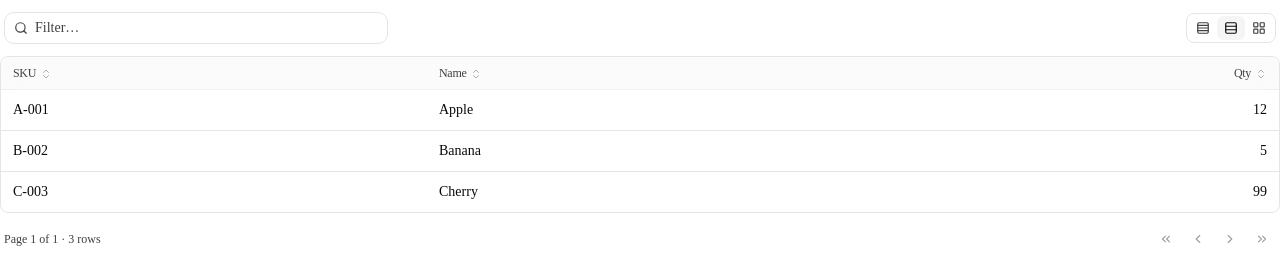
DataTable › global filter narrows rows
The width and height of the screenshot is (1280, 263).
Type "banana" into the field named "filter table" at (196, 28), box 4,12 -> 388,44
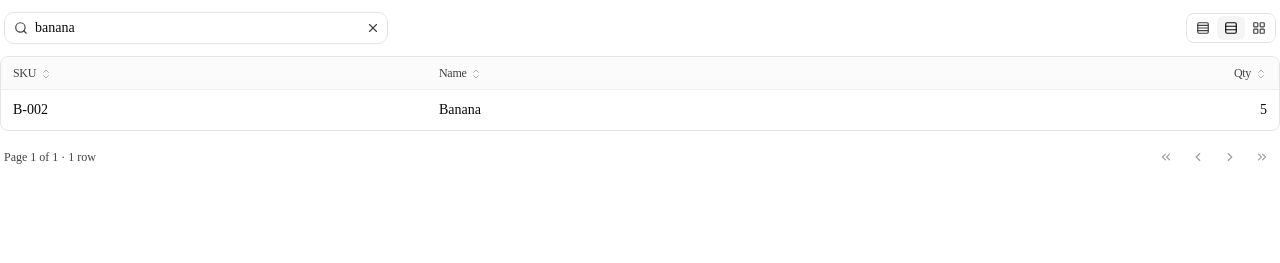
Expected: the text "Banana" is shown, 427,90 -> 853,130
Expected: the text "Apple" is gone
Expected: the text "Cherry" is gone
